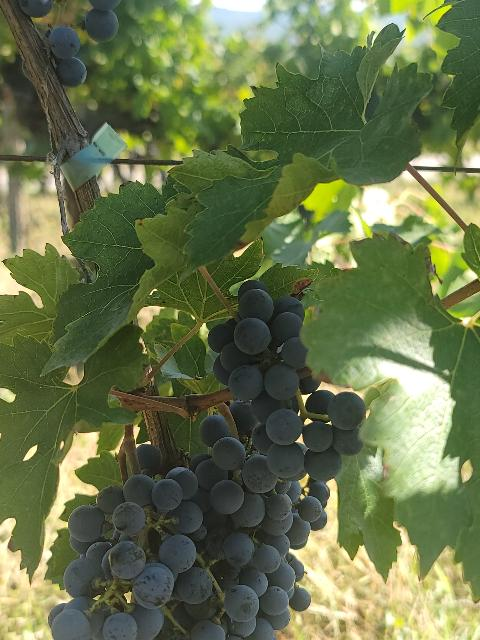grapes: (208, 280, 366, 490), (49, 468, 225, 640), (194, 416, 322, 640)
